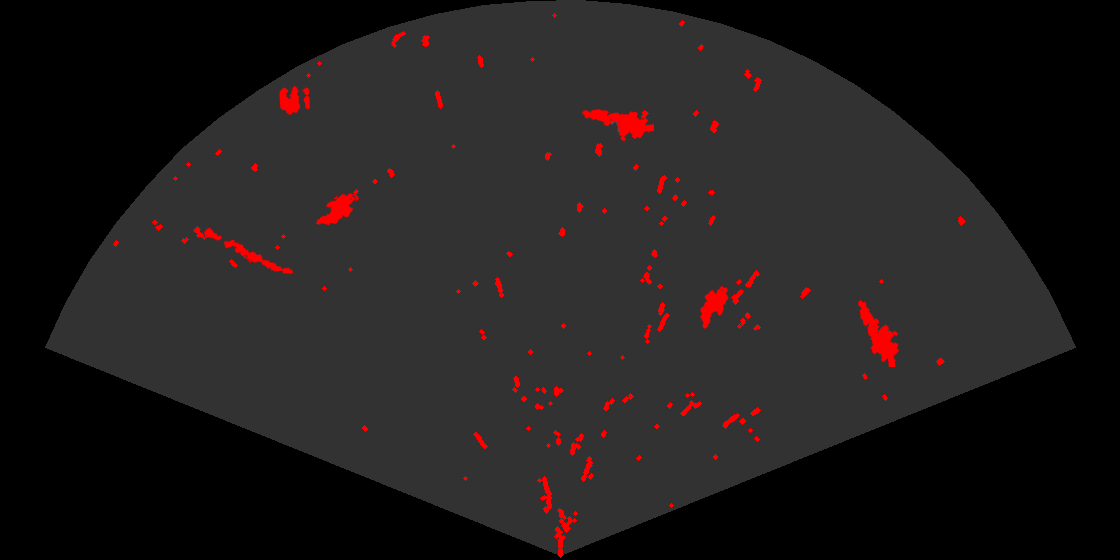AUV: (314, 192, 357, 227), (699, 284, 730, 331)
ball: (278, 84, 312, 116)
chain: (202, 226, 295, 276)
frogman: (856, 298, 900, 367), (580, 108, 654, 143)
